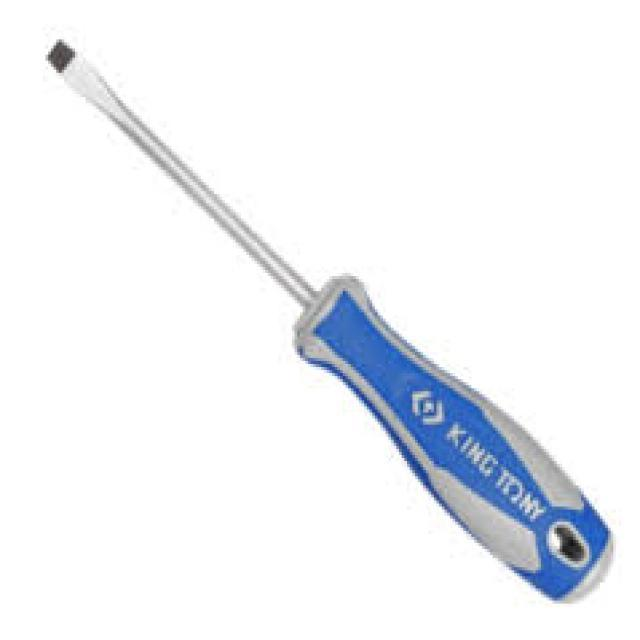screwdriver: (43, 40, 616, 610)
